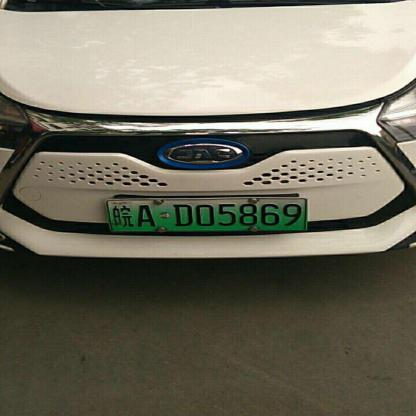lp: (107, 198, 308, 231)
